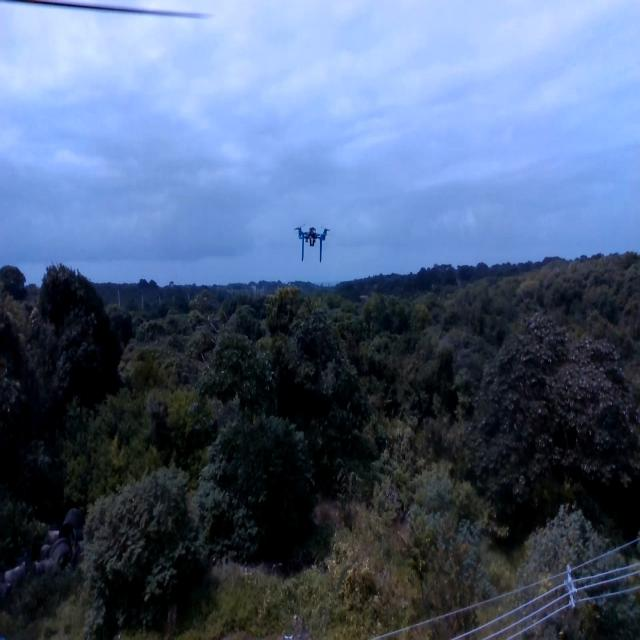-uav-: (289, 219, 343, 273)
